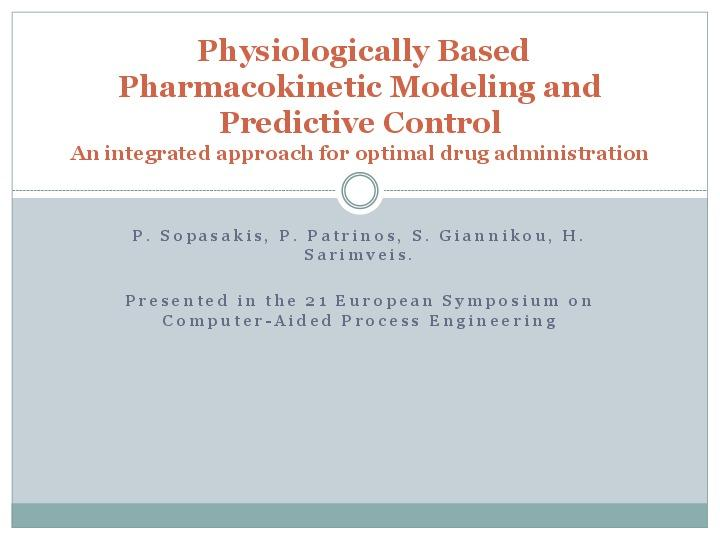subtitle: (73, 217, 665, 349)
title: (51, 19, 665, 175)
